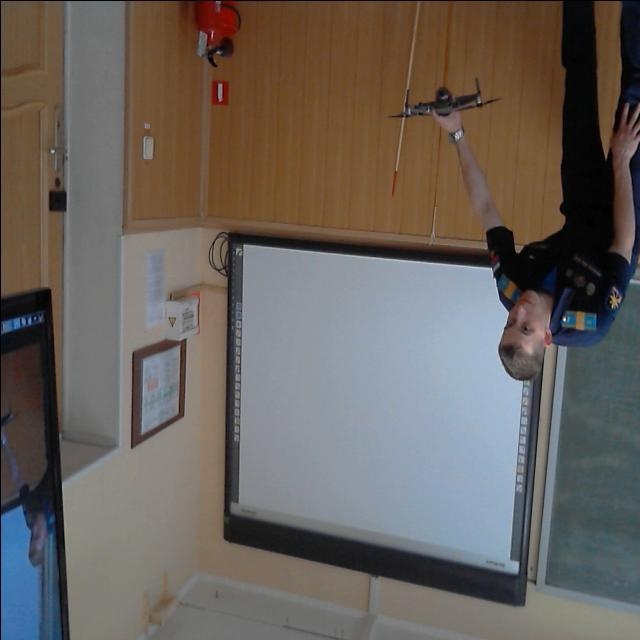drone: (389, 72, 504, 136)
